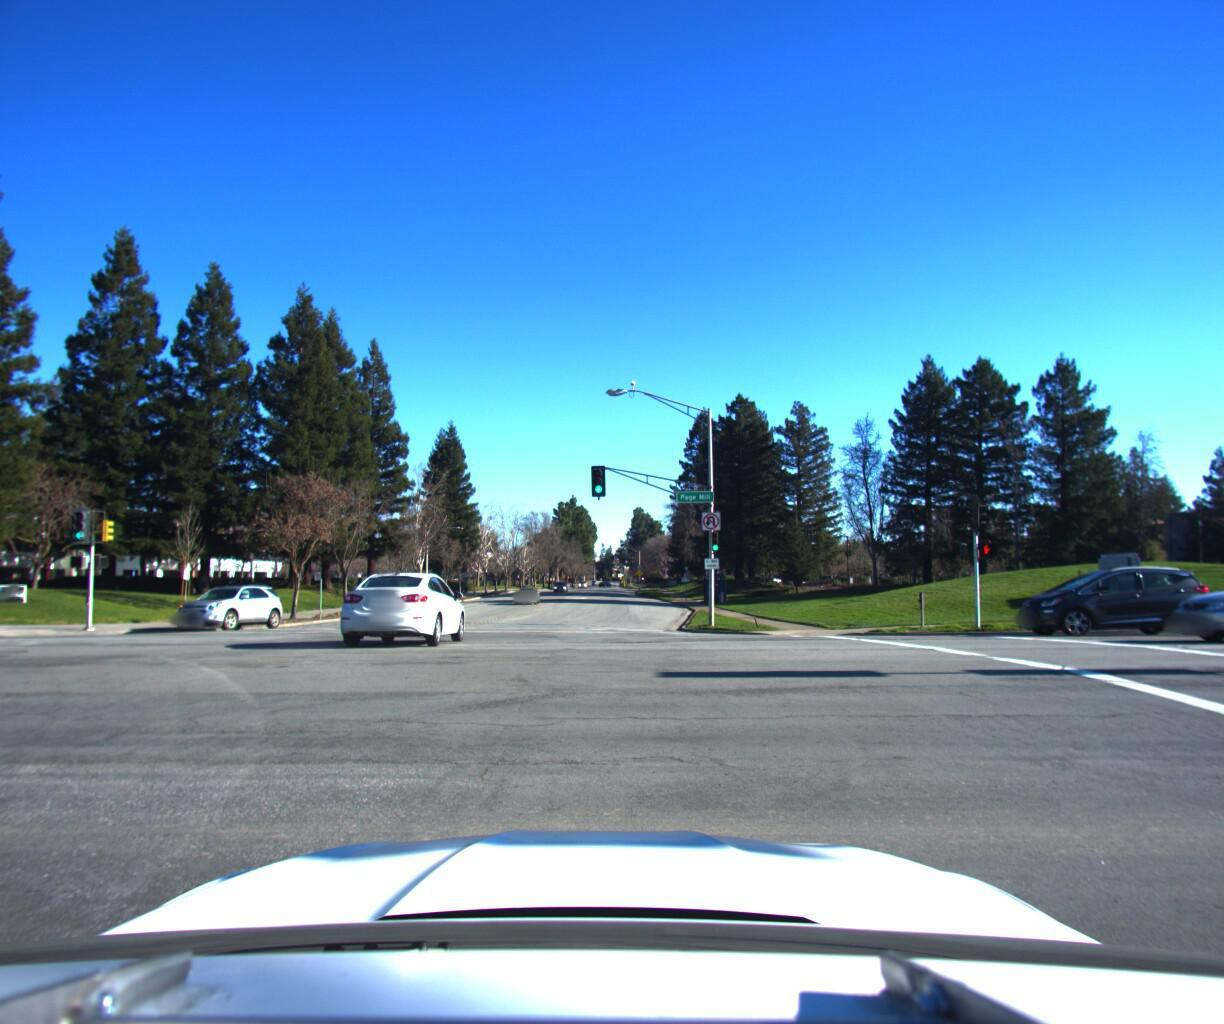car: (994, 556, 1221, 629), (334, 568, 473, 653), (165, 574, 291, 623), (1152, 552, 1224, 639), (515, 578, 542, 597)
